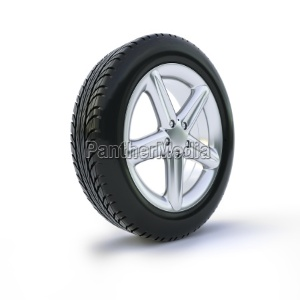tire: (68, 33, 234, 246)
